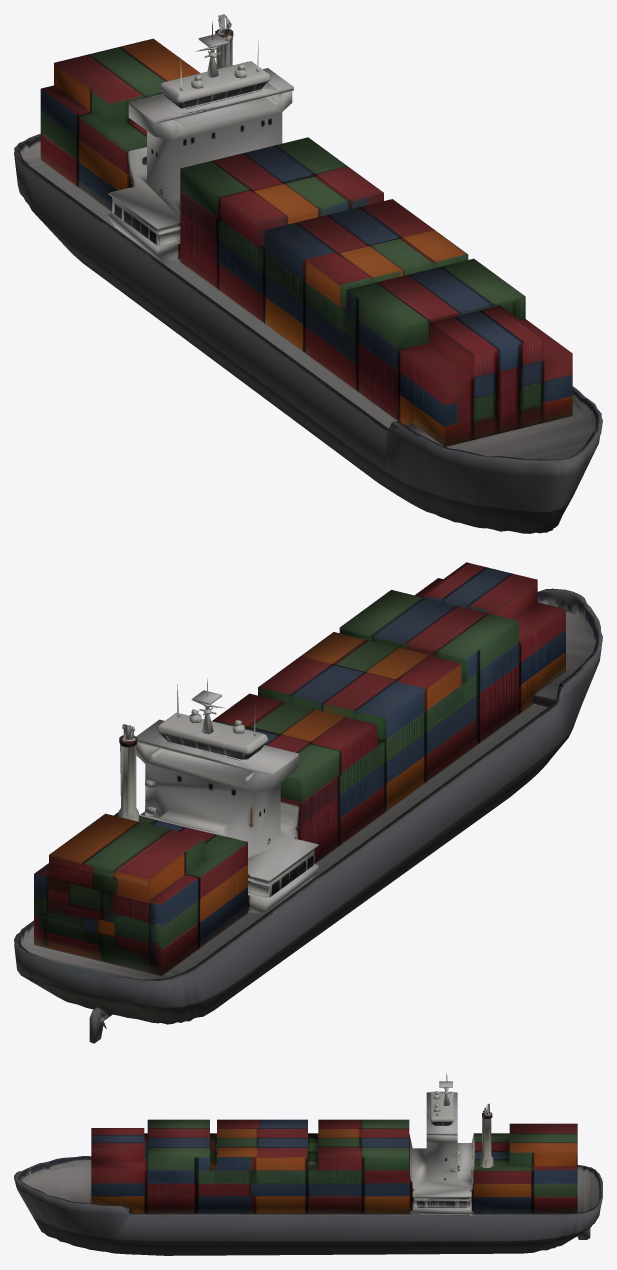
Rendered from original_glb.glb.
3 views of the same model, one above another, from view 1: azimuth 30°, elevation 25°; view 2: azimuth 150°, elevation 25°; view 3: azimuth 270°, elevation 25° (orthographic). The views are drawn at different scales.
Parts seen in each view (by area): view 1: Colorstack Cargo Freighter; view 2: Colorstack Cargo Freighter; view 3: Colorstack Cargo Freighter.
Boxes of the visible parts, x1,y1,x2,y2 form: Colorstack Cargo Freighter: (14, 14, 602, 533); Colorstack Cargo Freighter: (14, 562, 602, 1043); Colorstack Cargo Freighter: (14, 1073, 602, 1255).
Bounding box in the file's own units: 0.2012 × 0.3145 × 0.998.
Materials: 1 (1 with a texture image).
